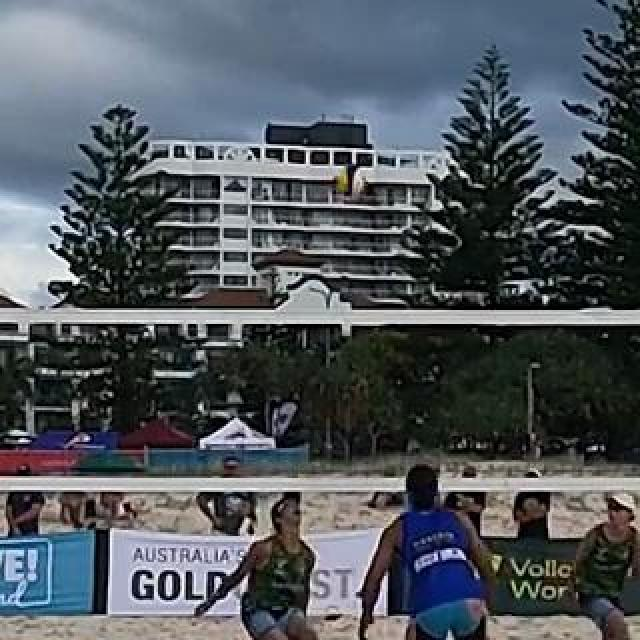volleyball: (335, 163, 367, 193), (324, 603, 342, 621)
